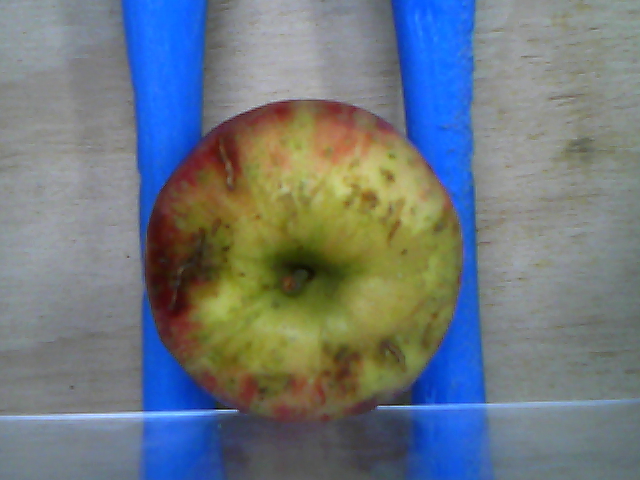cut: (169, 226, 204, 306), (215, 135, 235, 188)
